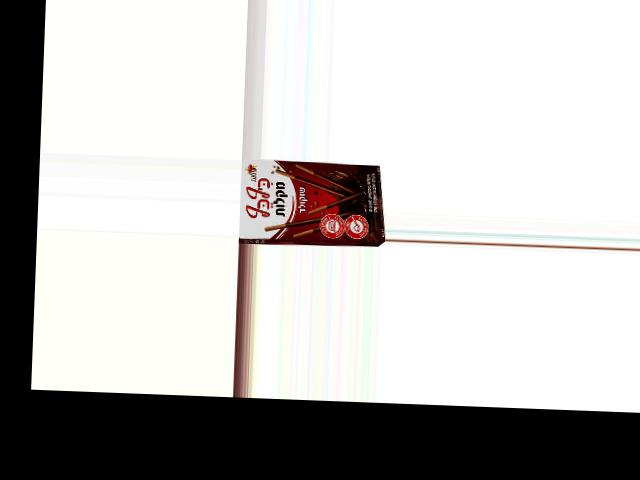chocolate: (238, 158, 378, 247)
